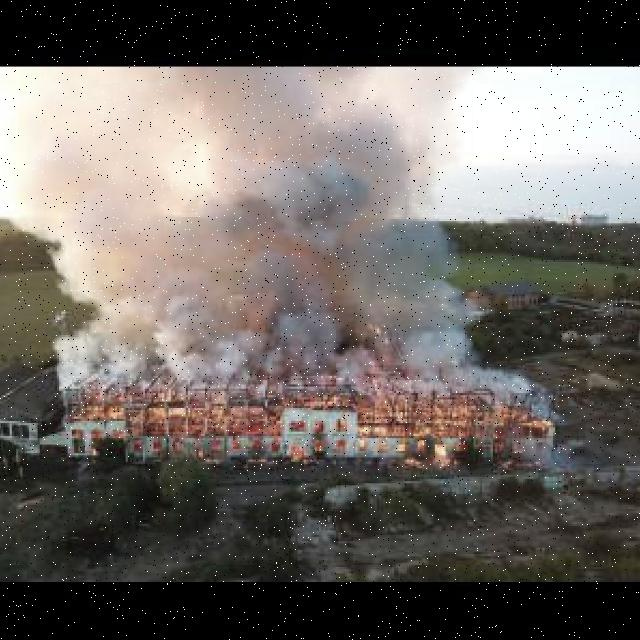fire: (63, 395, 556, 468)
smoke: (46, 97, 480, 391)
